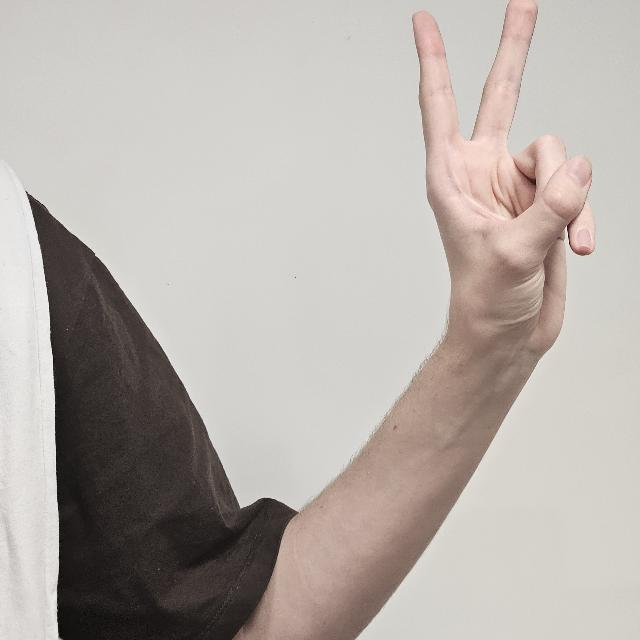Triangulo: (375, 2, 593, 454)
